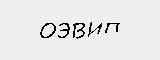А: (115, 16, 142, 33)
Л: (55, 19, 71, 37)
Н: (92, 15, 112, 32), (20, 22, 40, 38)
С: (72, 16, 91, 35)
Ә: (40, 21, 55, 38)
